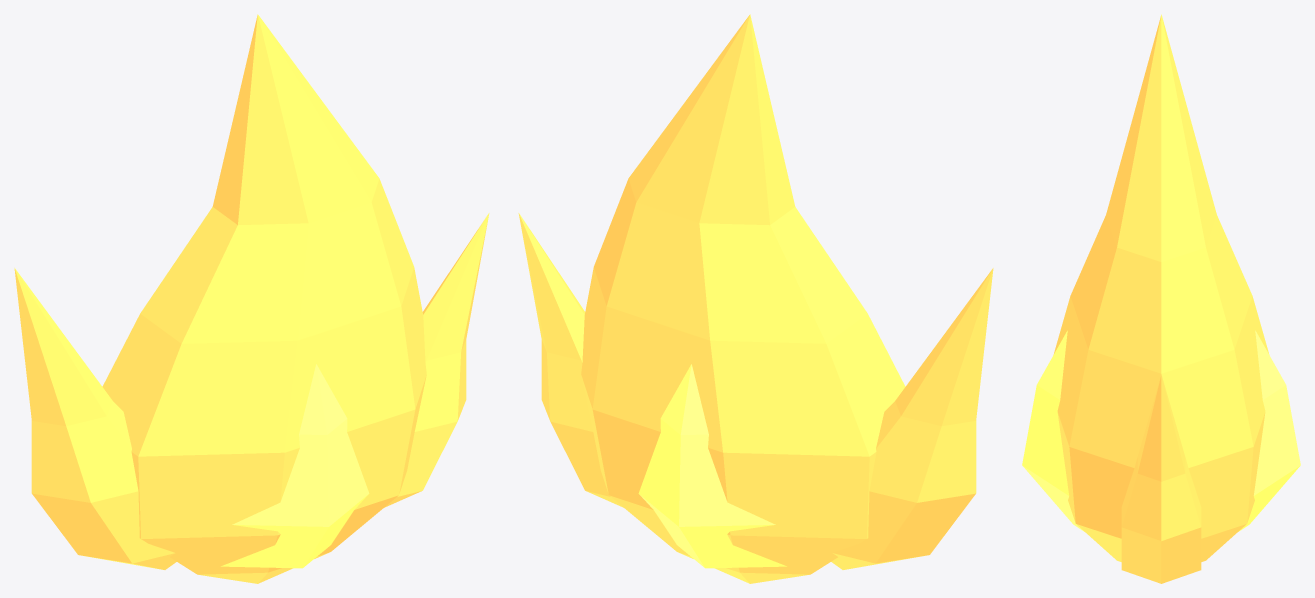
File: Emblem_Fire.fbx
3 renders of one model, left to right at view 1: azimuth 30°, elevation 25°; view 2: azimuth 150°, elevation 25°; view 3: azimuth 270°, elevation 25°, orthographic. The views are drawn at different scales.
Visible parts, largest first — view 1: Emblem_Fire; view 2: Emblem_Fire; view 3: Emblem_Fire.
Part boxes in pixels (x1,y1,x2,y2): Emblem_Fire: (14,14,489,583); Emblem_Fire: (518,14,993,583); Emblem_Fire: (1022,14,1300,583).
Size of the model in its own units: 0.41 by 0.47 by 0.2128.
